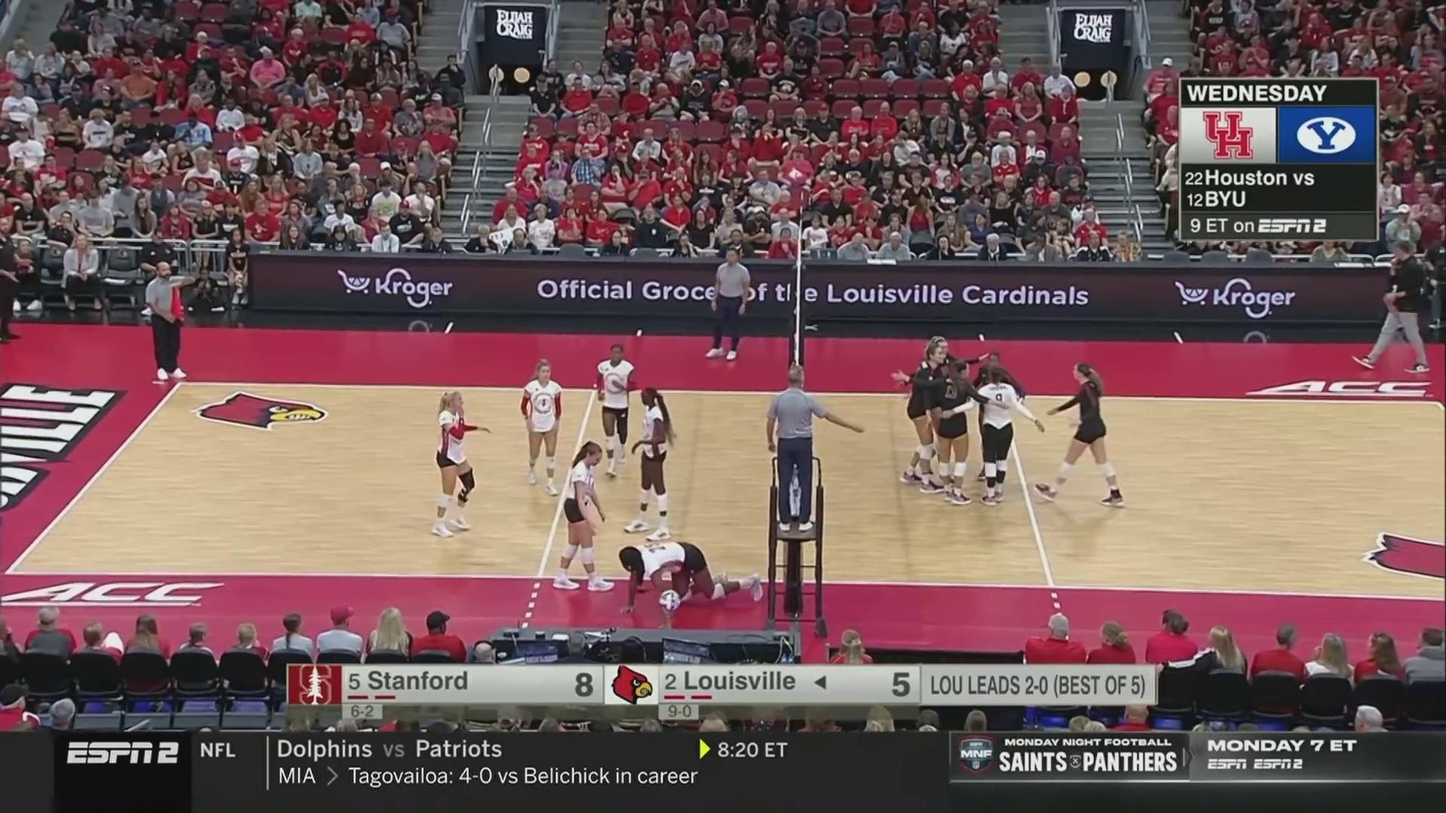player: (1043, 369, 1120, 509), (616, 539, 762, 608), (553, 441, 610, 590), (435, 393, 493, 537), (624, 388, 677, 537), (518, 364, 572, 494), (902, 346, 949, 493), (922, 335, 964, 488), (976, 350, 1021, 483), (937, 359, 973, 504), (597, 341, 634, 482), (979, 371, 1017, 499)
refree: (768, 363, 853, 531), (140, 263, 199, 385), (707, 248, 751, 364)
